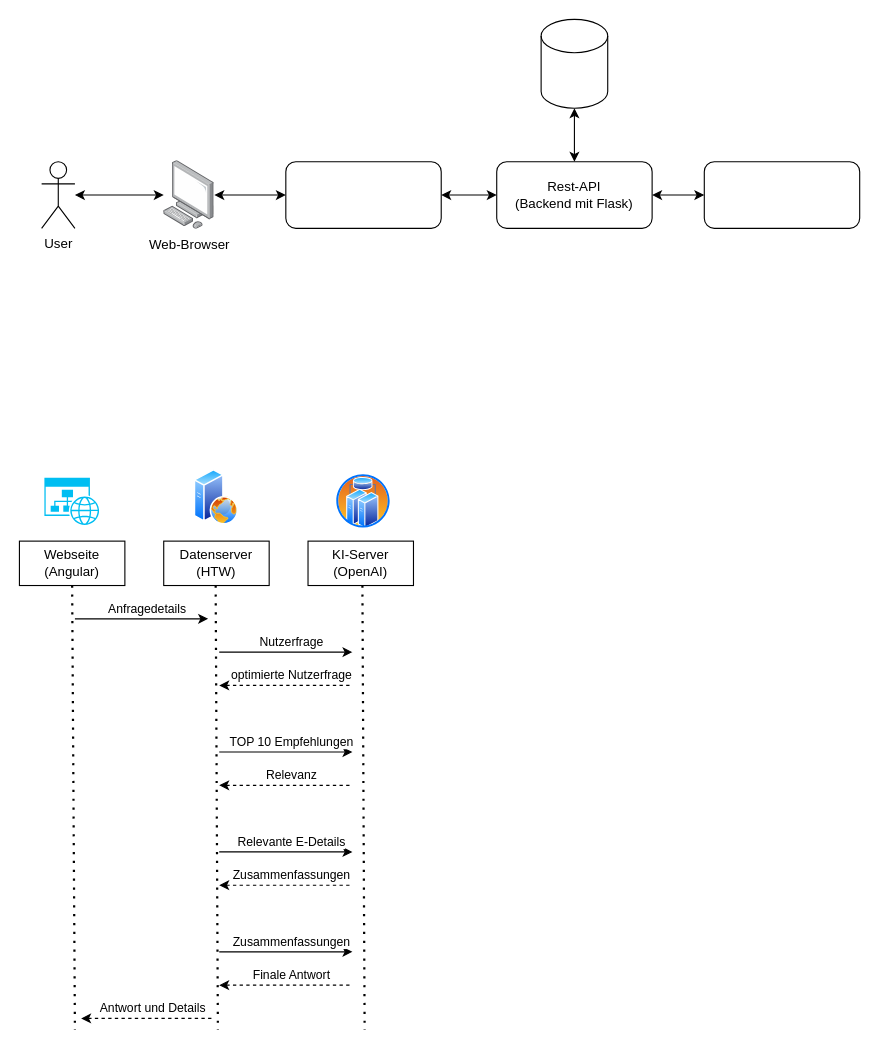
The diagram is 879 pixels wide and 1051 high, and some of its shapes have lost their labels. Here are the shapes that lost their labels. From the top down, the centre of each, then its label:
the point at 574,63: Guideline Database
the point at 363,194: Webserver (Frontend mit Angular)
the point at 781,194: GPT4 (OpenAI API)
